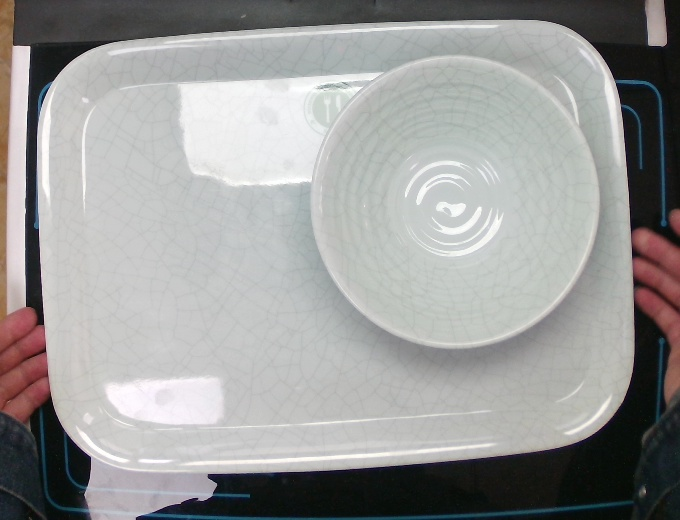JYsf-Xiao_Tang_Wan: (304, 50, 606, 355)
